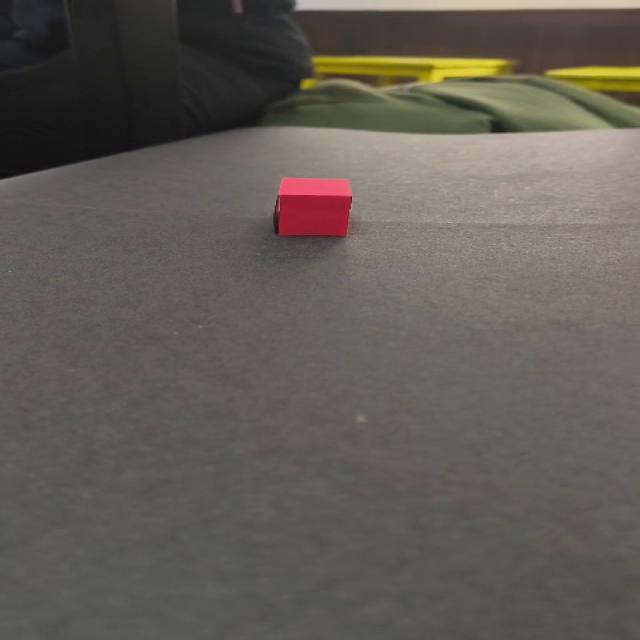red block: (272, 176, 353, 236)
